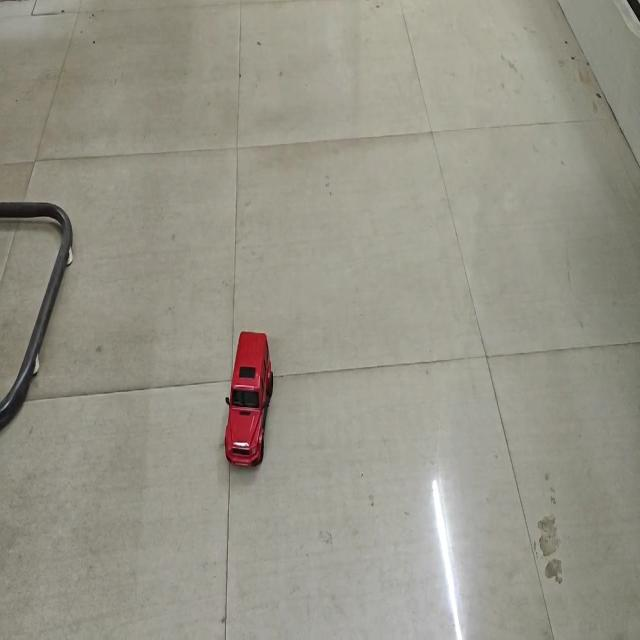light_vehicle: (222, 324, 271, 468)
